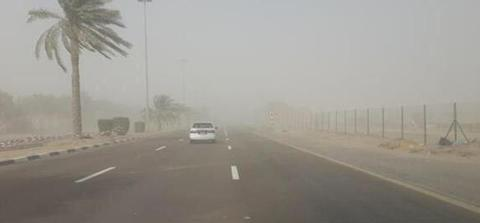car: (188, 121, 218, 144)
